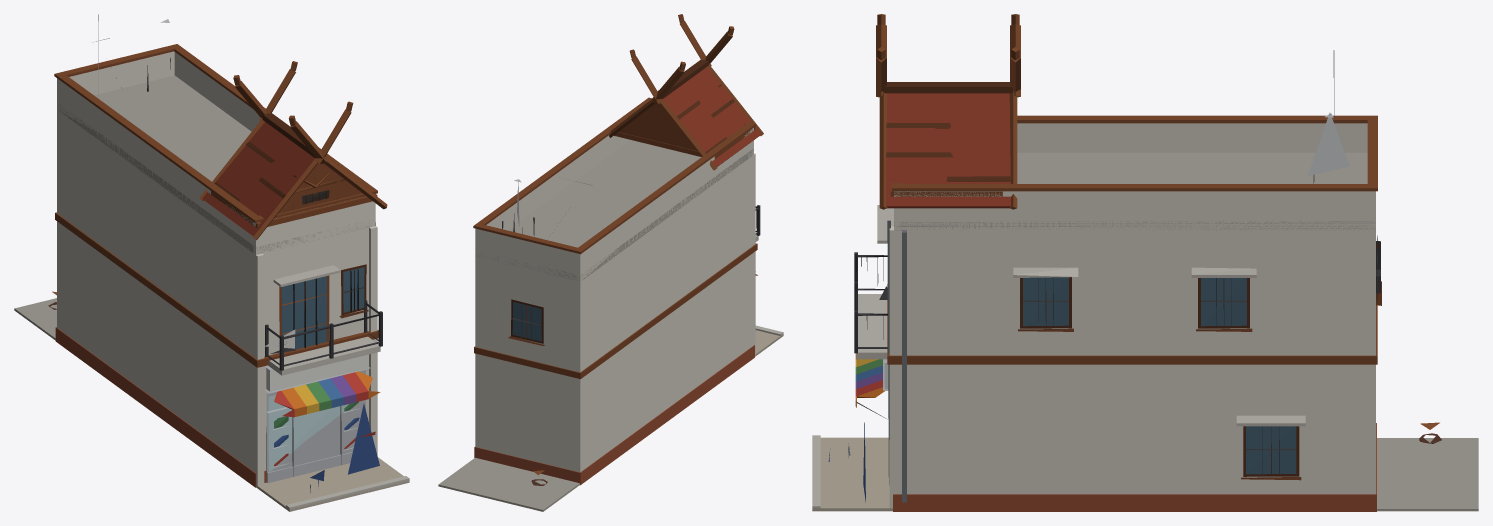
File: bay1_right.glb
3 views of the same model, side by side, from view 1: azimuth 30°, elevation 25°; view 2: azimuth 150°, elevation 25°; view 3: azimuth 270°, elevation 25° (orthographic). The views are drawn at different scales.
Visible parts, largest first — view 1: body, windows; view 2: body, windows; view 3: body, windows.
Boxes of the visible parts, x1=… form: body: x1=14, y1=14, x2=409, y2=511; windows: x1=281, y1=190, x2=364, y2=352; body: x1=438, y1=14, x2=783, y2=511; windows: x1=512, y1=302, x2=541, y2=341; body: x1=812, y1=14, x2=1478, y2=511; windows: x1=1023, y1=238, x2=1377, y2=474.
Size of the model in its own units: 4.66 by 11.82 by 15.9.
